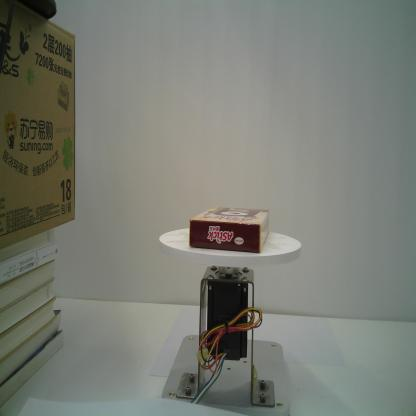Dessert: (189, 205, 270, 254)
